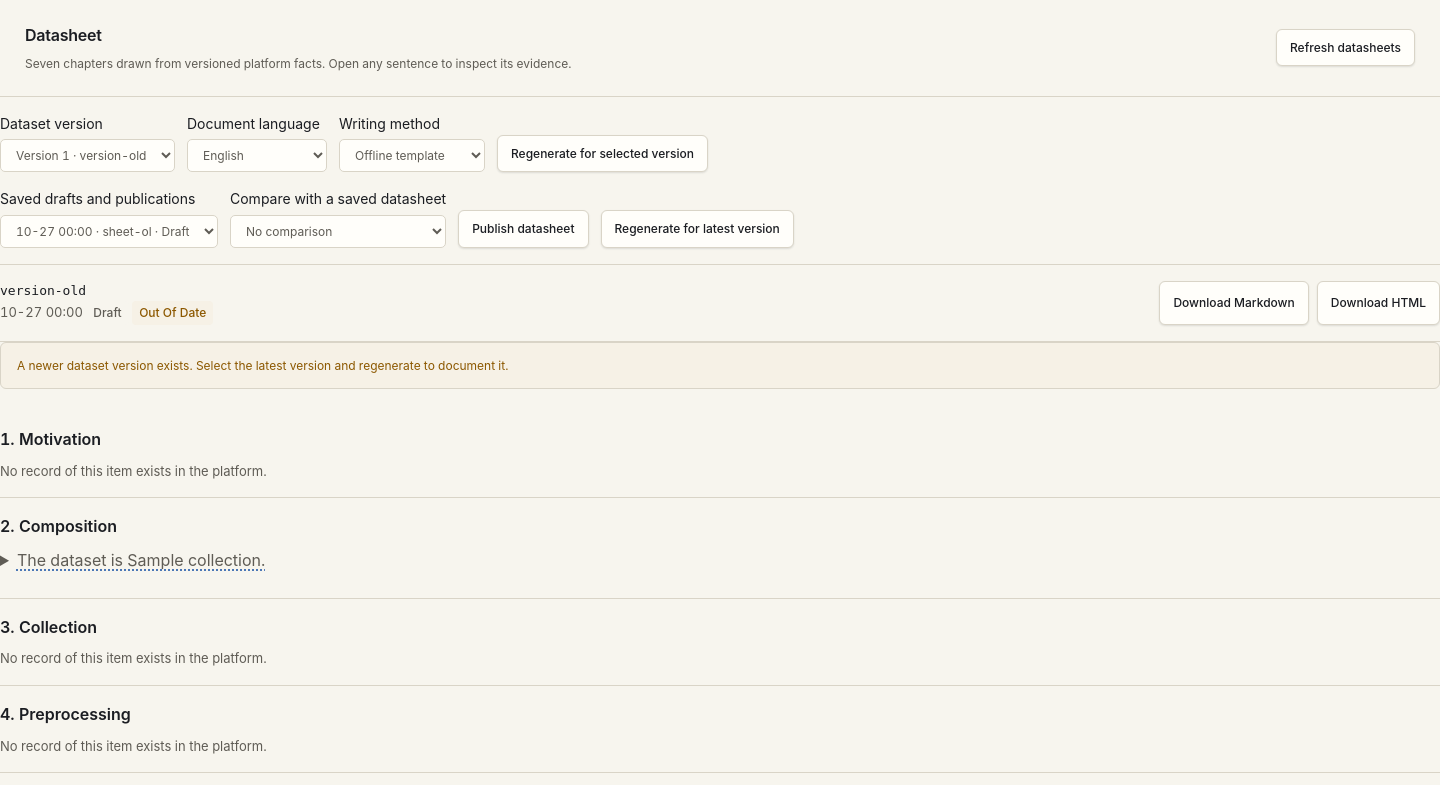
Scenario: regenerates a stale document for the latest version with one action
Step 1. Click the button "Regenerate for latest version" → x=697, y=229, box [600, 210, 794, 248]
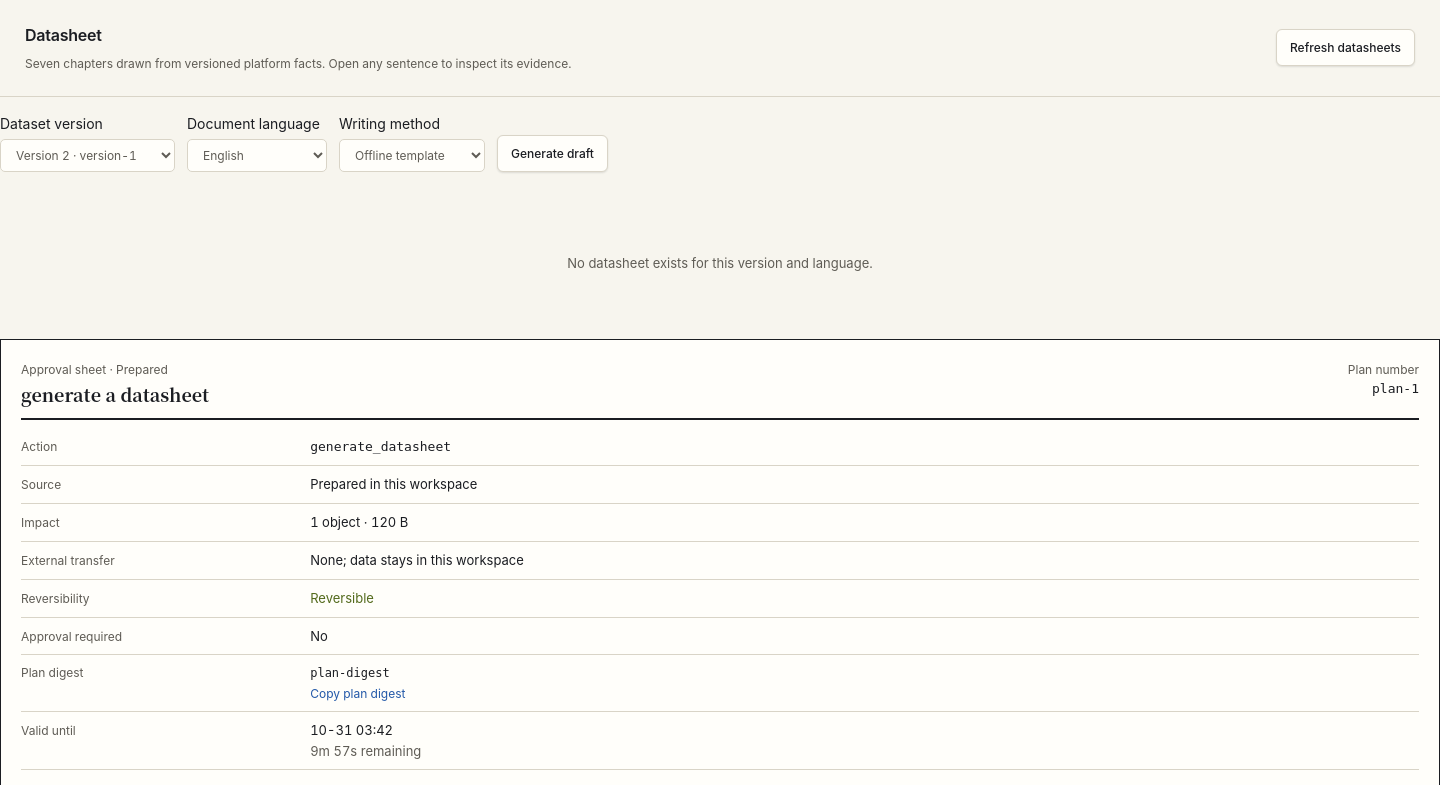
Check: the dropdown labelled "Dataset version" shows "Version 2 · version-1", box [0, 139, 175, 172]
